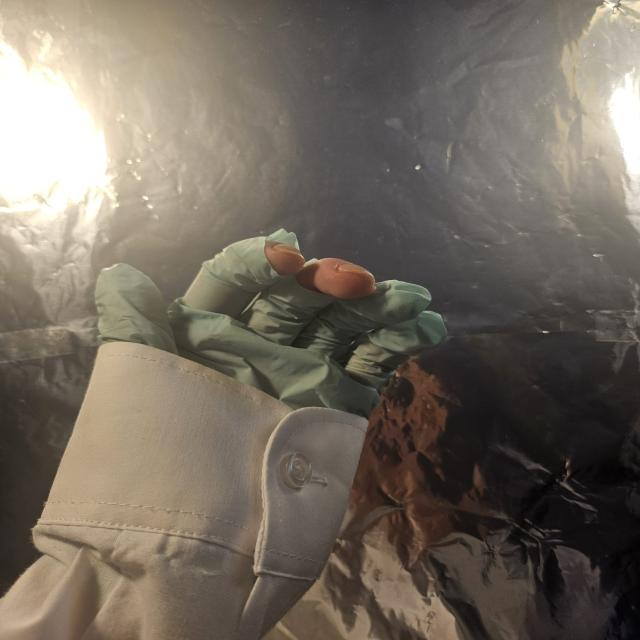gloves_damaged: (94, 230, 451, 420)
